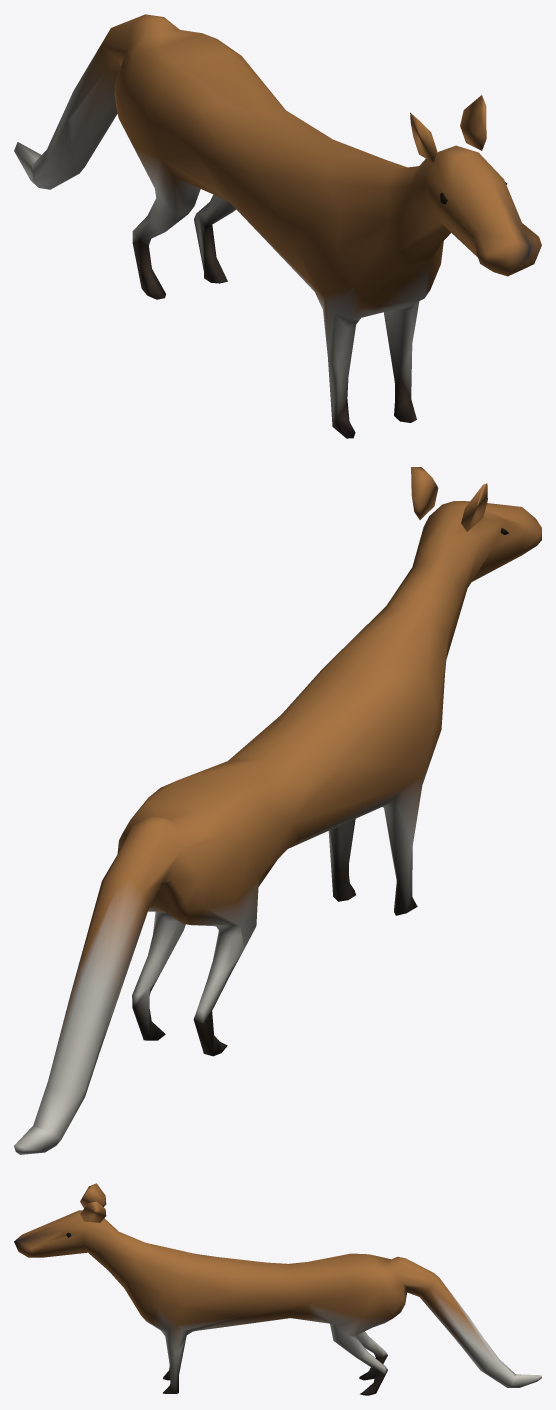
Rendered from fuchs.glb.
3 views of the same model, one above another, from view 1: azimuth 30°, elevation 25°; view 2: azimuth 150°, elevation 25°; view 3: azimuth 270°, elevation 25° (orthographic). The views are drawn at different scales.
Visible parts, largest first — view 1: lack; view 2: lack; view 3: lack.
Part boxes in pixels (bbox=[...]): lack: bbox=[14, 14, 541, 438]; lack: bbox=[14, 467, 541, 1154]; lack: bbox=[14, 1183, 541, 1395].
Size of the model in its own units: 0.1853 by 0.6275 by 1.54.
